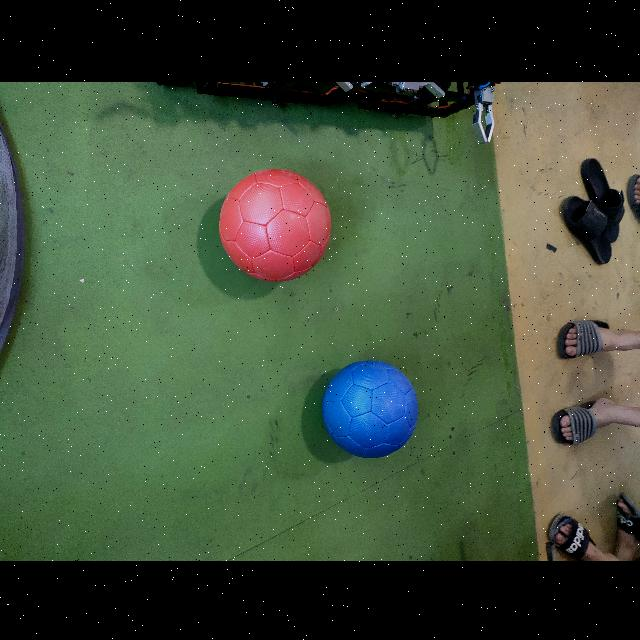B: (320, 359, 418, 456)
R: (218, 167, 332, 281)
